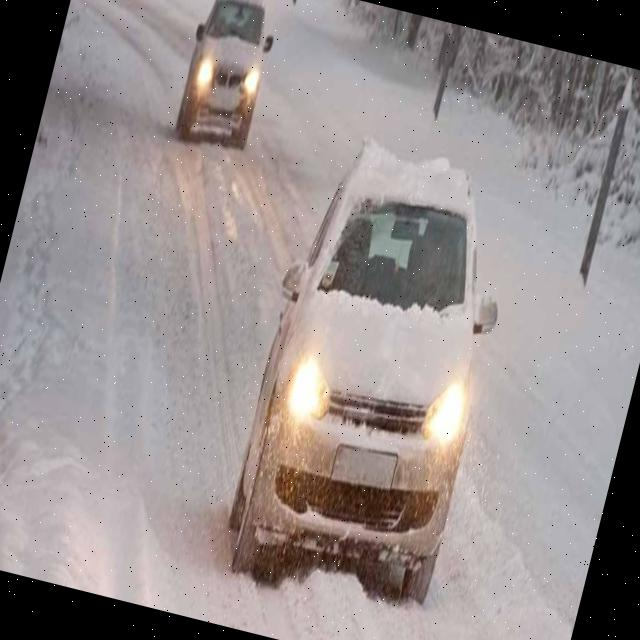car: (210, 131, 534, 621), (172, 0, 285, 155)
